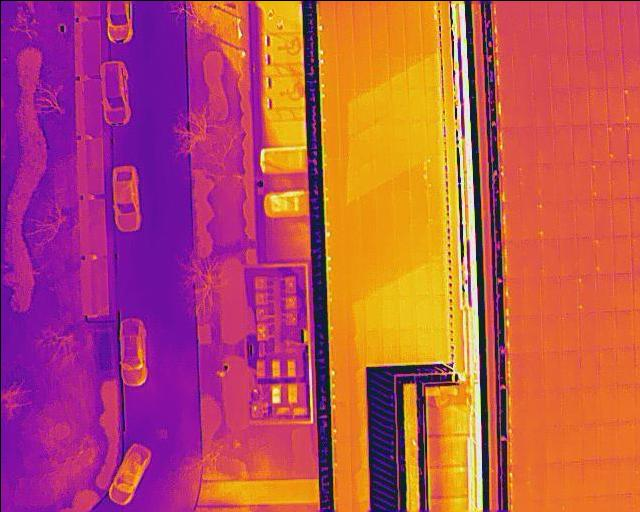Cell-Multi: (590, 160, 610, 199), (607, 121, 626, 161), (508, 462, 527, 501), (506, 314, 525, 352), (494, 15, 513, 52), (508, 427, 527, 464), (593, 235, 612, 272), (536, 201, 555, 238), (505, 280, 524, 315), (577, 274, 594, 311), (501, 166, 518, 201)
No-Anomaly: (577, 420, 599, 459), (614, 344, 635, 384), (523, 463, 545, 501), (542, 387, 562, 428), (530, 49, 550, 89), (613, 271, 633, 311), (533, 126, 554, 164), (579, 347, 598, 389), (597, 457, 617, 496), (615, 455, 635, 494), (511, 49, 531, 88), (559, 348, 579, 387), (541, 462, 561, 501), (561, 459, 581, 498), (579, 459, 600, 496), (521, 315, 542, 352), (515, 126, 535, 164), (531, 89, 551, 127), (548, 48, 567, 88), (562, 422, 581, 462), (558, 274, 577, 314), (552, 162, 572, 200), (600, 14, 621, 50), (526, 388, 545, 427), (596, 346, 615, 385), (520, 239, 539, 278), (518, 201, 537, 240), (582, 14, 602, 51), (613, 310, 633, 347), (618, 14, 639, 49), (617, 420, 636, 458), (614, 383, 633, 421), (596, 309, 615, 347), (538, 277, 557, 315), (557, 238, 576, 276), (550, 89, 570, 125), (604, 48, 622, 88), (543, 426, 563, 462), (524, 352, 544, 388), (539, 237, 557, 277), (610, 236, 630, 272), (610, 197, 630, 233), (591, 198, 610, 235), (609, 160, 628, 197), (562, 387, 580, 426), (560, 310, 578, 349), (594, 273, 612, 312), (528, 16, 548, 51), (510, 14, 530, 49), (568, 50, 586, 88), (526, 425, 544, 463), (599, 421, 617, 459), (556, 199, 574, 237), (518, 164, 537, 200), (589, 87, 607, 124), (586, 51, 604, 88), (575, 237, 593, 274), (579, 312, 597, 349), (573, 161, 591, 198), (573, 200, 592, 235), (544, 350, 561, 389), (569, 89, 587, 125), (606, 87, 624, 123), (541, 315, 559, 351), (515, 91, 533, 126), (580, 388, 598, 423), (553, 125, 570, 162), (572, 125, 589, 162), (590, 124, 607, 161), (522, 279, 539, 316), (565, 16, 584, 49), (546, 16, 565, 49), (598, 386, 615, 422), (537, 164, 554, 199), (501, 127, 517, 163), (496, 52, 512, 88)
Unclassified: (507, 391, 527, 429), (503, 238, 522, 278), (496, 88, 515, 127), (502, 202, 520, 239), (506, 352, 524, 388)
